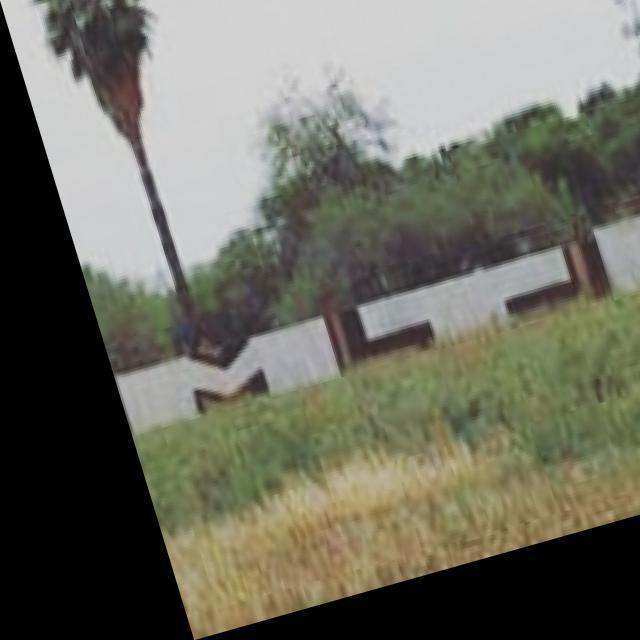-: (90, 225, 640, 431)
